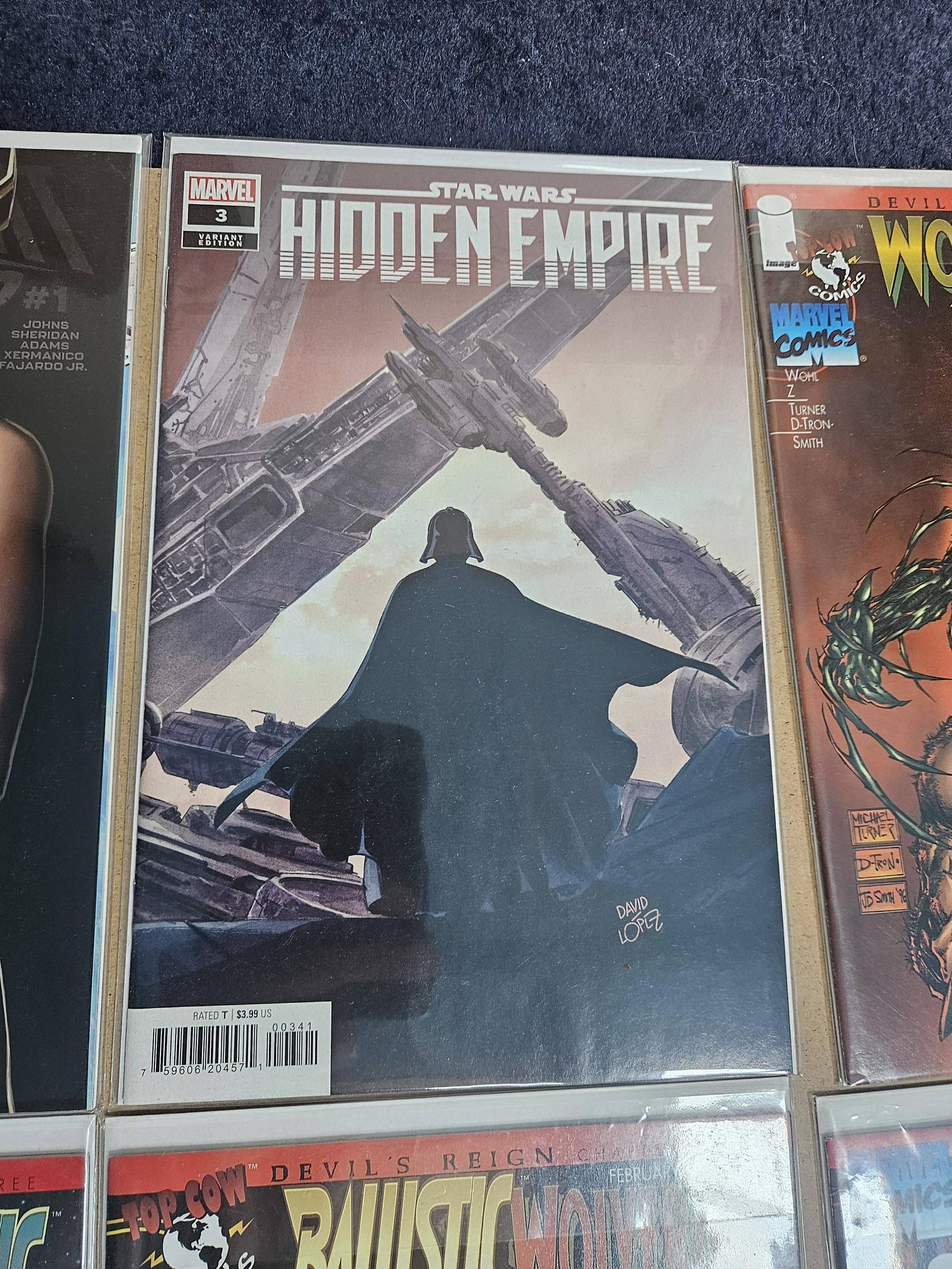comic: (122, 139, 831, 1133)
